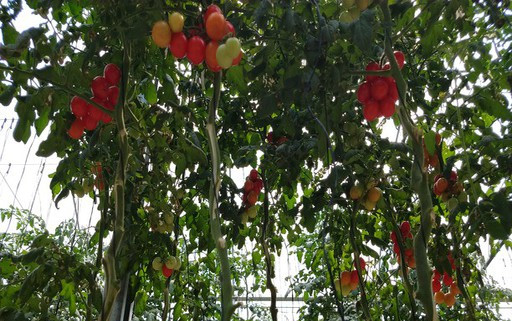green tomato bunch: (348, 173, 382, 207), (338, 1, 373, 26), (148, 210, 179, 236)
mixed tomato bunch: (151, 4, 244, 70), (432, 248, 462, 306), (432, 168, 469, 210), (333, 258, 367, 298), (236, 170, 263, 218), (149, 252, 186, 275)
red tomato bunch: (70, 64, 123, 138), (357, 51, 406, 118), (391, 222, 416, 268)
